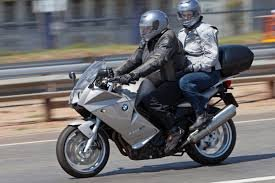motor: (52, 70, 250, 172)
